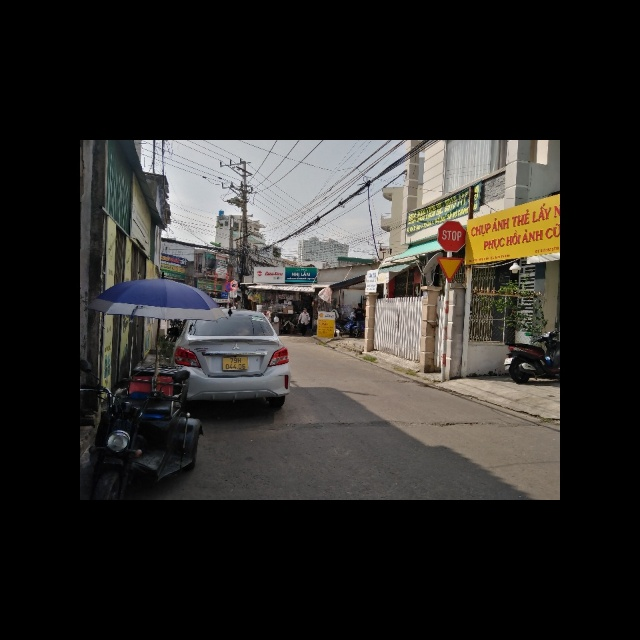Dừng lại: (436, 220, 466, 251)
Giao nhau với đường ưu tiên: (435, 254, 464, 281)
